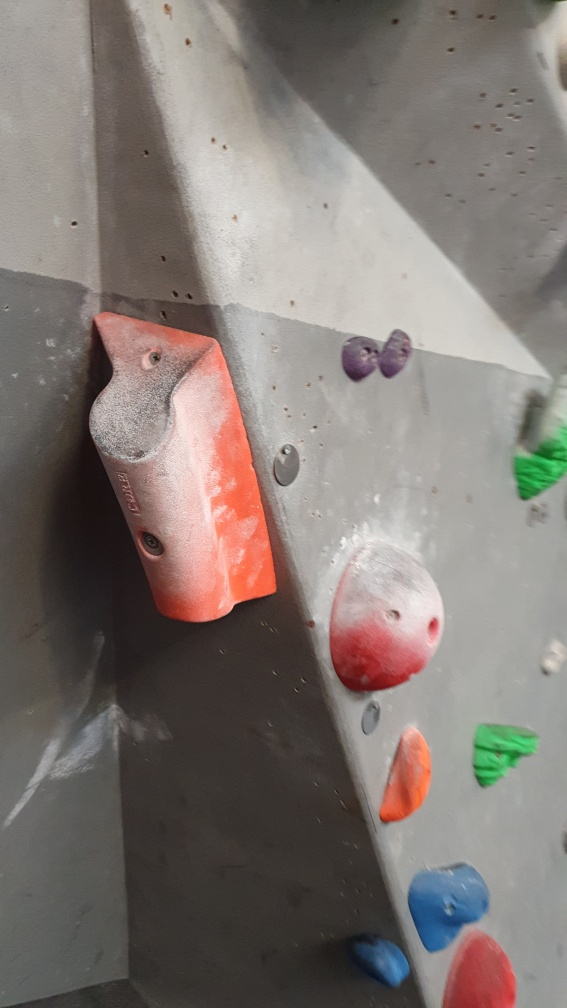Hand Start: (270, 439, 307, 498), (359, 697, 384, 737)
Jug: (469, 718, 546, 792)
Pinch: (83, 304, 281, 630)
Sloper: (328, 540, 454, 692), (429, 919, 520, 1008)
